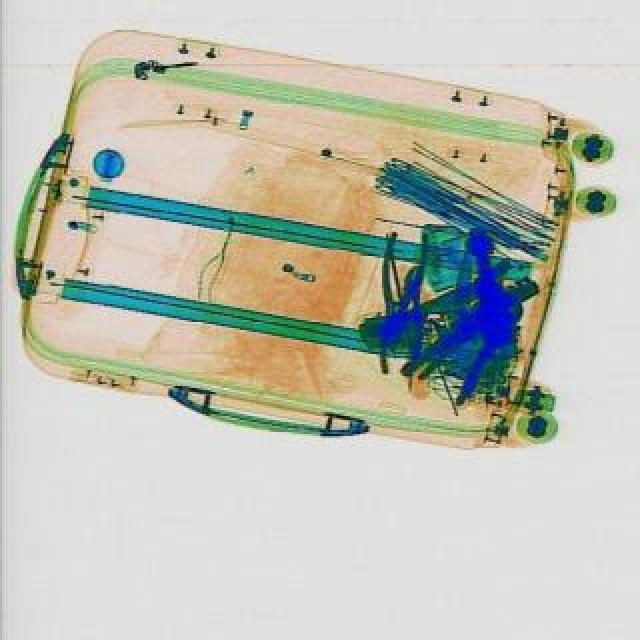wrench: (372, 260, 440, 376), (368, 230, 428, 344)
